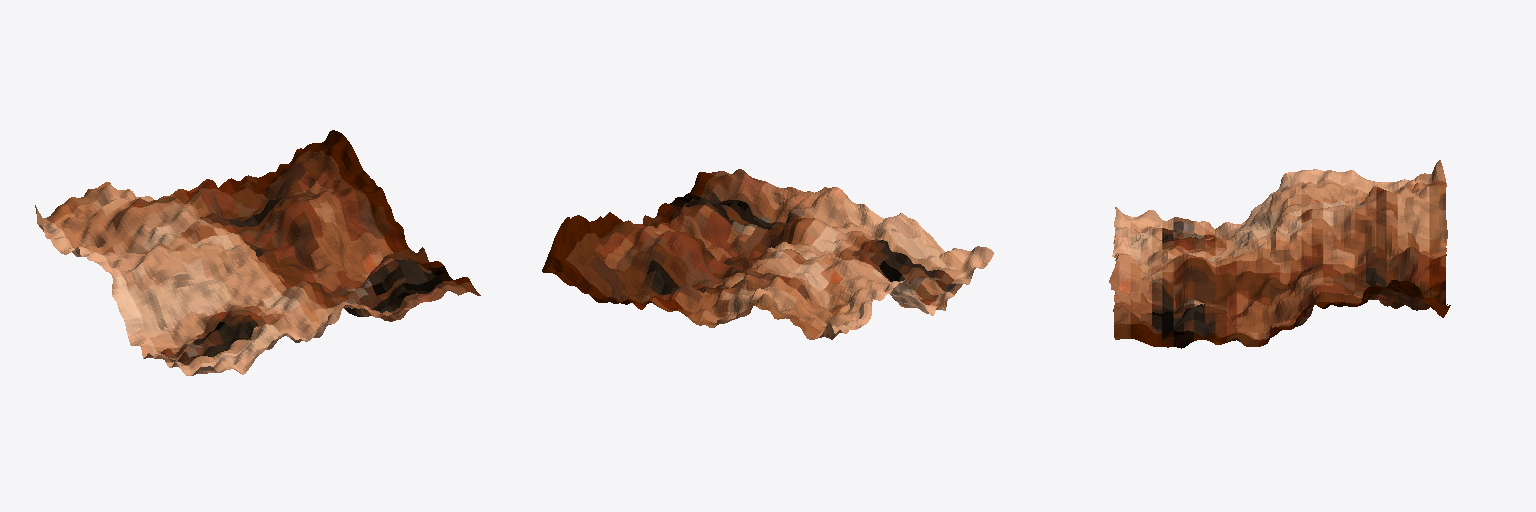
3 renders of one model, left to right at view 1: azimuth 30°, elevation 25°; view 2: azimuth 150°, elevation 25°; view 3: azimuth 270°, elevation 25°, orthographic.
Parts seen in each view (by area): view 1: terr; view 2: terr; view 3: terr.
Boxes of the visible parts, x1=… form: terr: x1=35, y1=130, x2=480, y2=375; terr: x1=542, y1=169, x2=993, y2=339; terr: x1=1109, y1=160, x2=1450, y2=348.
Bounding box in the file's own units: 1.02 × 0.3068 × 1.03.
1 materials, 1 textured.